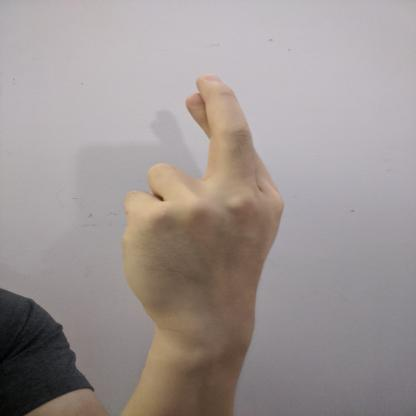R: (115, 71, 292, 346)
